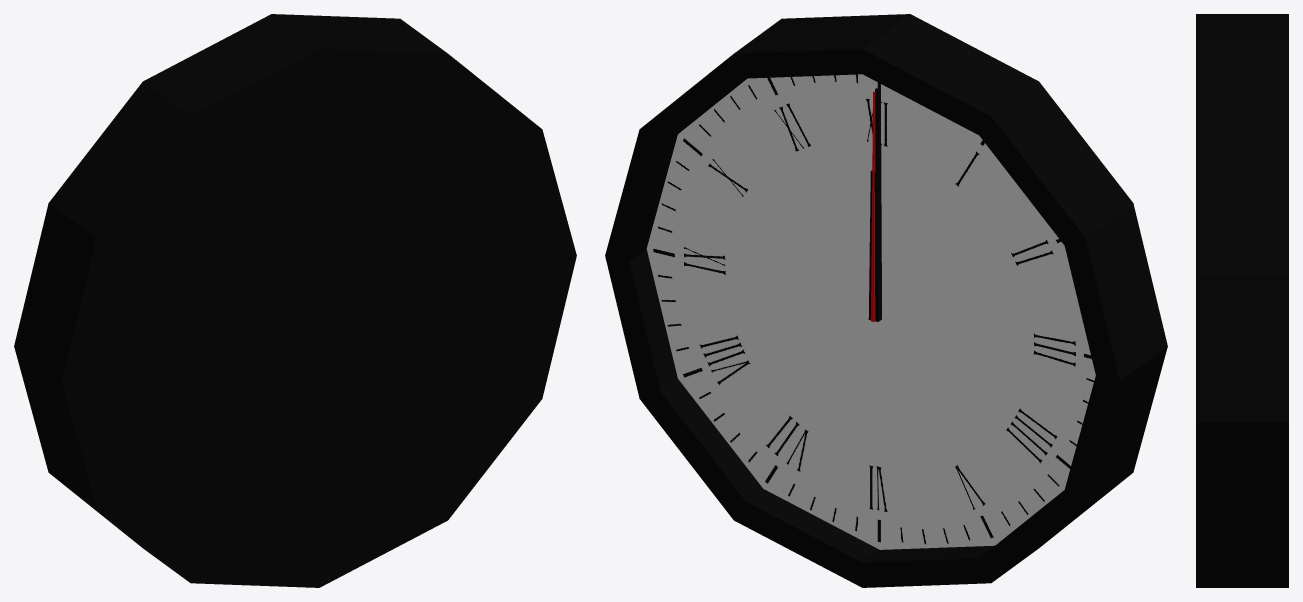
The model's file is Clock3.fbx.
The picture shows the model from 3 angles, left to right: view 1: azimuth 30°, elevation 25°; view 2: azimuth 150°, elevation 25°; view 3: azimuth 270°, elevation 25°; orthographic projection. The views are drawn at different scales.
Parts seen in each view (by area): view 1: Clock; view 2: Clock, Minutes, Hours, Seconds; view 3: Clock.
Boxes of the visible parts, left/top/right/bottom form: Clock: left=14, top=14, right=576, bottom=587; Clock: left=605, top=14, right=1167, bottom=587; Minutes: left=875, top=88, right=881, bottom=321; Hours: left=868, top=170, right=878, bottom=321; Seconds: left=871, top=91, right=875, bottom=321; Clock: left=1196, top=14, right=1288, bottom=587.
Size of the model in its own units: 200 by 200 by 32.18.
